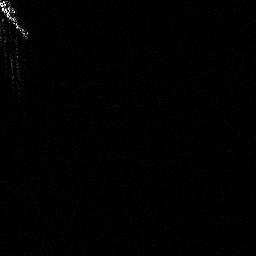ship: (1, 1, 33, 43)
